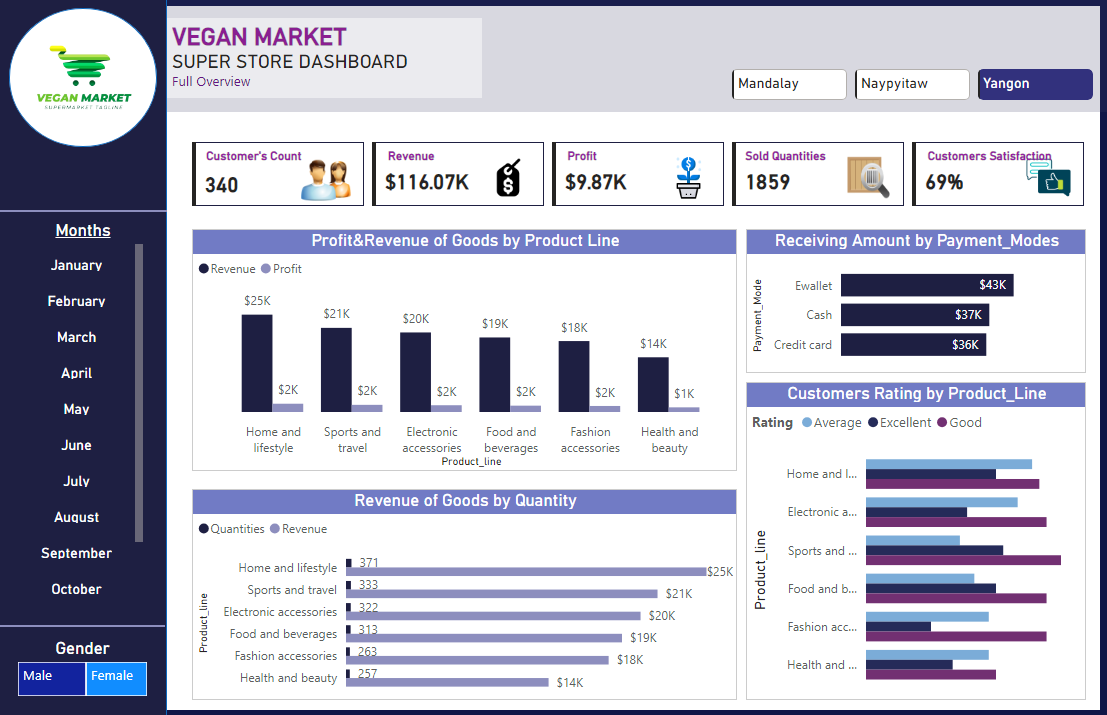

The page's visual inventory and layout, read from the dashboard file:
{"tool":"powerbi","page":{"name":"Page 1","canvas":[1110,720],"ordinal":0},"visuals":[{"type":"shape","box":[0,0,1110,720],"z":0},{"type":"shape","box":[0,0,168.9,720],"z":1000},{"type":"shape","box":[168.9,0,941.1,114.4],"z":2000},{"type":"shape","box":[11.2,10,147.5,138.8],"z":3000},{"type":"image","box":[2.8,0,166.6,160],"z":4000},{"type":"cardVisual","fields":{"Data":["CountNonNull(Customer.Invoice_ID)","Sum(Product.Sold_Price)","Sum(Product.Goods_Profit)","Sum(Product.Quantity)","Customer.Positive_Rating"]},"box":[189,139,904,74],"z":5000},{"type":"textbox","box":[169,20,315,80],"z":6000},{"type":"textbox","box":[194.4,143.3,893.3,26.7],"z":7000},{"type":"advancedSlicerVisual","fields":{"Values":["Customer.City"]},"box":[728.9,65.6,372.2,41.1],"z":8000},{"type":"shape","box":[2.2,204.4,166.7,17.8],"z":9000},{"type":"advancedSlicerVisual","fields":{"Values":["Product.Months"]},"box":[20,222,130,384],"z":10000},{"type":"shape","box":[0,619,167,18],"z":11000},{"type":"clusteredColumnChart","title":"Profit&Revenue of Goods by Product Line","fields":{"Category":["Product.Product_line"],"Y":["Sum(Product.Sold_Price)","Sum(Product.Goods_Profit)"]},"box":[194.4,231.1,544.4,242.2],"z":12000},{"type":"treemap","title":"Gender","fields":{"Group":["Customer.Gender"],"Values":["CountNonNull(Customer.Invoice_ID)"]},"box":[15.2,640,139,62.9],"z":13000},{"type":"clusteredBarChart","title":"Revenue of Goods by Quantity","fields":{"Category":["Product.Product_line"],"Y":["Sum(Product.Quantity)","Sum(Product.Sold_Price)"]},"box":[194.4,491.1,544.4,211.1],"z":14000},{"type":"barChart","title":"Receiving Amount by Payment_Modes","fields":{"Category":["Product.Payment_Mode"],"Y":["Sum(Product.Sold_Price)"]},"box":[748,231,340,144],"z":15000},{"type":"clusteredBarChart","title":"Customers Rating by Product_Line","fields":{"Category":["Product.Product_line"],"Series":["Customer.Customers_Rating"],"Y":["CountNonNull(Customer.Invoice_ID)"]},"box":[748,384,340,318],"z":16000}]}

Visuals, with their boxes in screenshot pixels (x1, y1, x2, y2), scaled from the page's 1110x720 canvas onto the 1107x715 screenshot:
shape: box=[0, 0, 1106, 714]
shape: box=[0, 0, 168, 714]
shape: box=[168, 0, 1106, 114]
shape: box=[11, 10, 158, 148]
image: box=[3, 0, 169, 159]
cardVisual - CountNonNull(Customer.Invoice_ID) x Sum(Product.Sold_Price): box=[188, 138, 1090, 212]
textbox: box=[169, 20, 483, 99]
textbox: box=[194, 142, 1085, 169]
advancedSlicerVisual - Customer.City: box=[727, 65, 1098, 106]
shape: box=[2, 203, 168, 221]
advancedSlicerVisual - Product.Months: box=[20, 220, 150, 602]
shape: box=[0, 615, 167, 633]
"Profit&Revenue of Goods by Product Line" clusteredColumnChart: box=[194, 229, 737, 470]
"Gender" treemap: box=[15, 636, 154, 698]
"Revenue of Goods by Quantity" clusteredBarChart: box=[194, 488, 737, 697]
"Receiving Amount by Payment_Modes" barChart: box=[746, 229, 1085, 372]
"Customers Rating by Product_Line" clusteredBarChart: box=[746, 381, 1085, 697]
